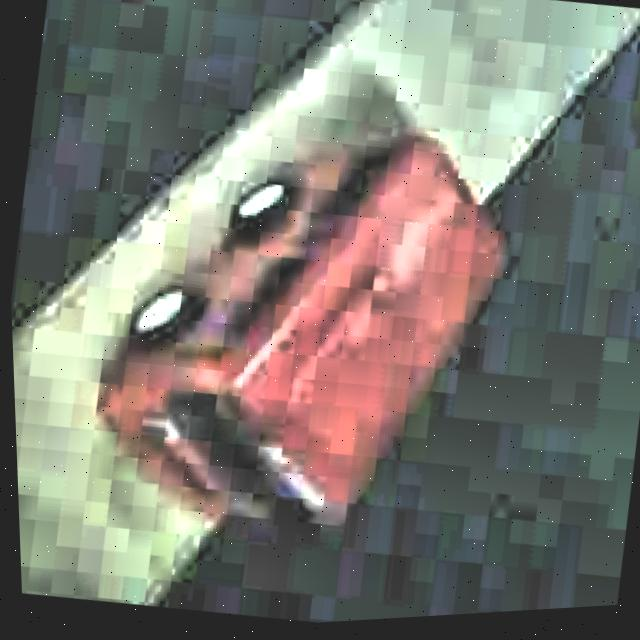bus: (66, 80, 539, 569)
